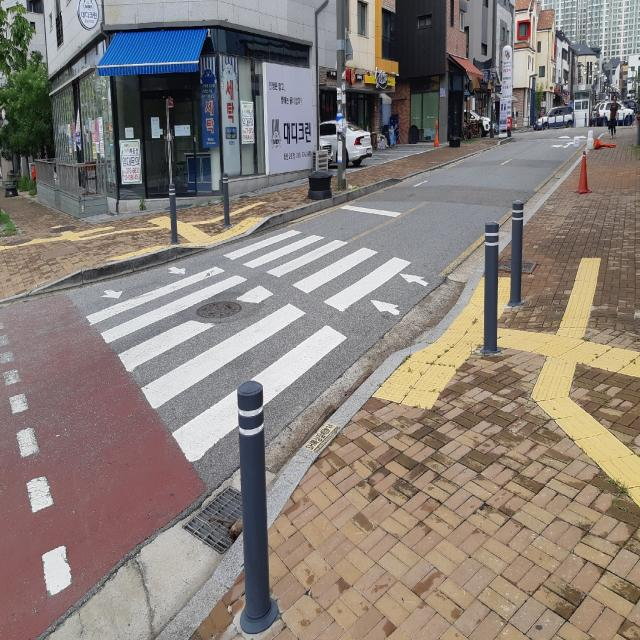횡단보도: (82, 224, 432, 466)
